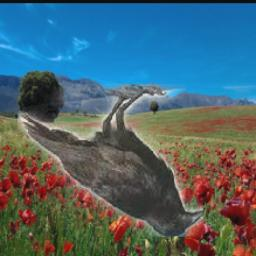Crow: (19, 84, 205, 237)
